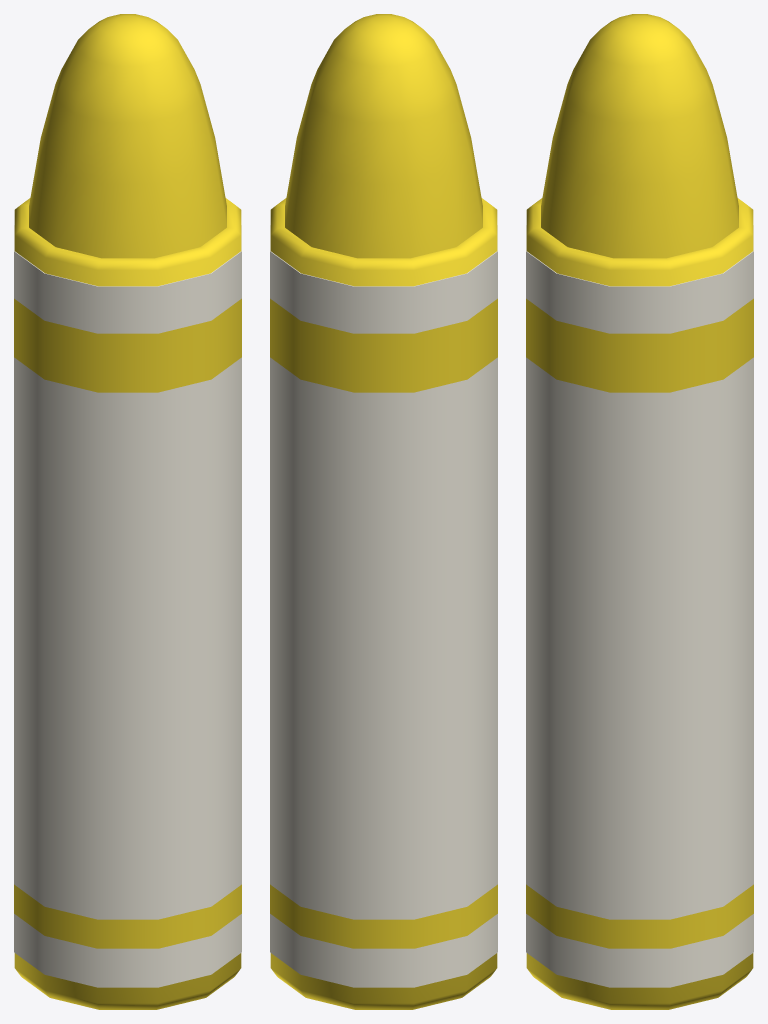
The model's file is crayon_yellow.fbx.
3 views of the same model, side by side, from view 1: azimuth 30°, elevation 25°; view 2: azimuth 150°, elevation 25°; view 3: azimuth 270°, elevation 25° (orthographic).
Parts seen in each view (by area): view 1: crayon_yellow; view 2: crayon_yellow; view 3: crayon_yellow.
Boxes of the visible parts, x1,y1,x2,y2 form: crayon_yellow: (14,14,241,1009); crayon_yellow: (270,14,497,1009); crayon_yellow: (526,14,753,1009).
Size of the model in its own units: 0.1891 by 0.8639 by 0.1891.
